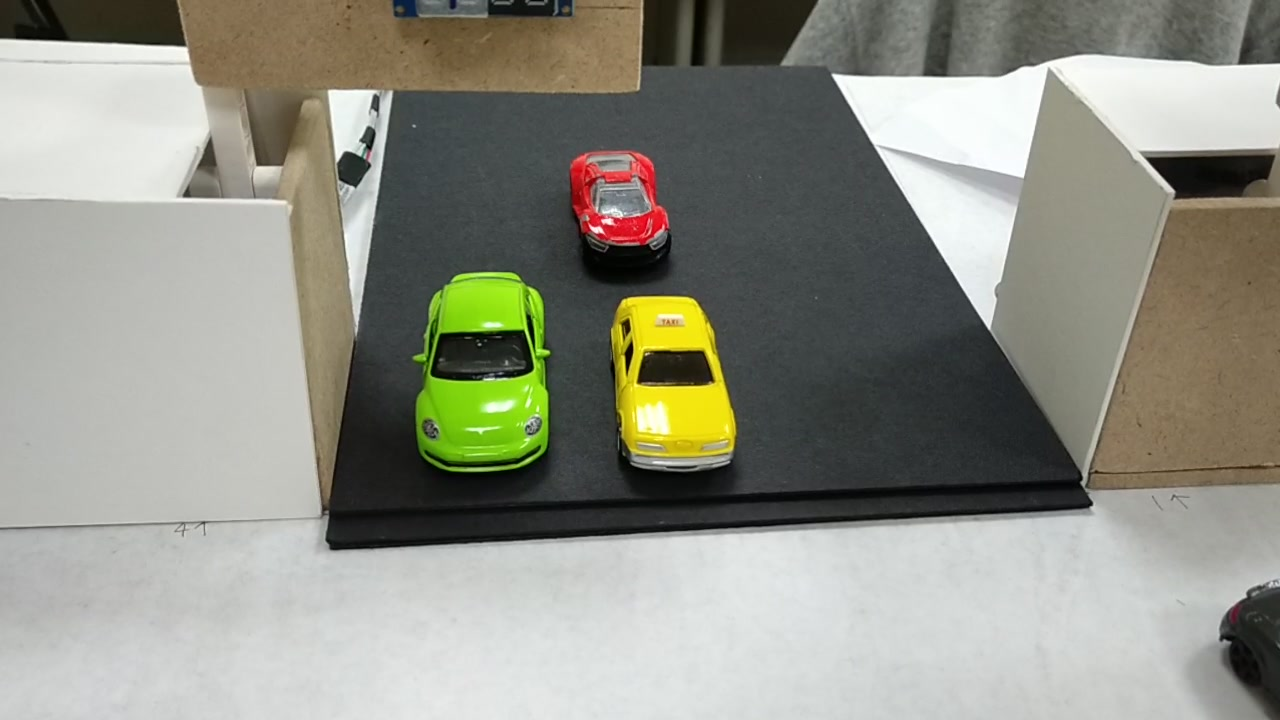car: (415, 276, 548, 475), (613, 298, 736, 473), (567, 152, 669, 262)
